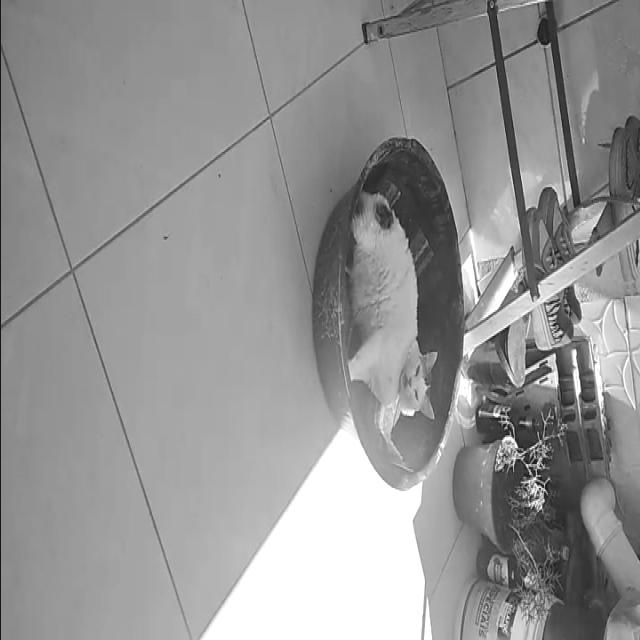Simba: (332, 130, 452, 473)
